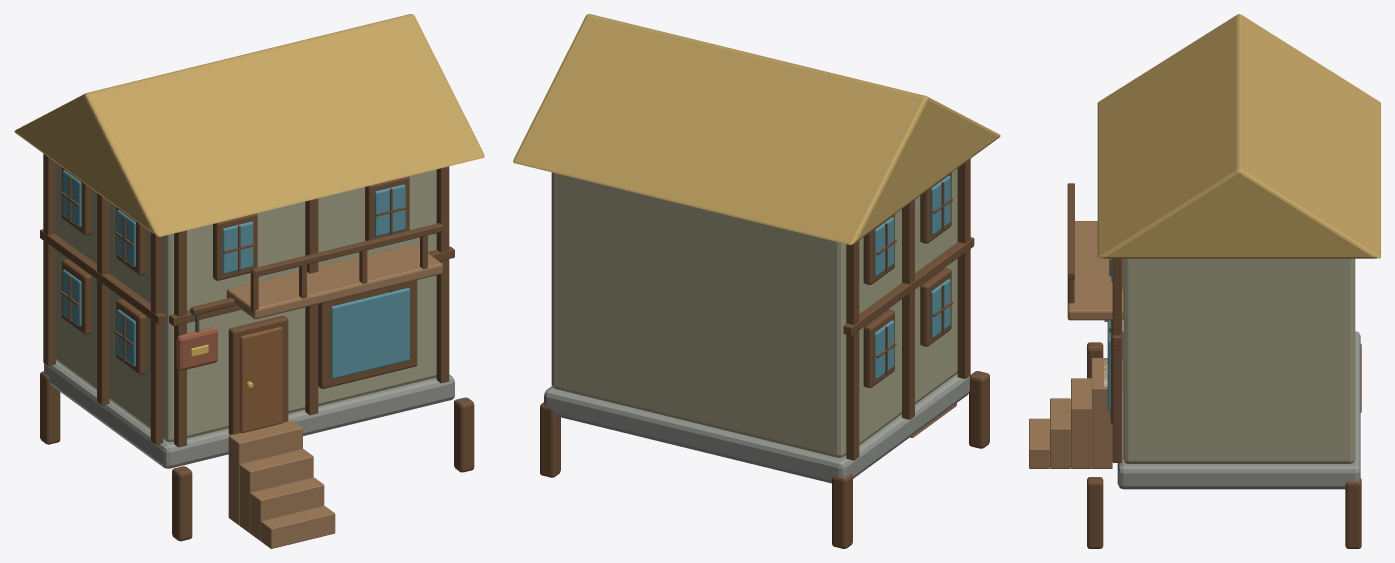
Rendered from wetland-merchant-0.glb.
3 renders of one model, left to right at view 1: azimuth 30°, elevation 25°; view 2: azimuth 150°, elevation 25°; view 3: azimuth 270°, elevation 25°, orthographic. The views are drawn at different scales.
Parts seen in each view (by area): view 1: Golden thatch, Dark beams, Weathered planks, Aged oak, Blue glass, Foundation stone, Door oak, Painted sign; view 2: Weathered planks, Golden thatch, Dark beams, Foundation stone, Blue glass; view 3: Golden thatch, Weathered planks, Aged oak, Foundation stone, Dark beams.
Boxes of the visible parts, x1,y1,x2,y2 form: Golden thatch: (14,14,484,236); Dark beams: (40,154,474,541); Weathered planks: (56,163,436,442); Aged oak: (226,243,442,548); Blue glass: (62,170,409,378); Foundation stone: (44,361,454,468); Door oak: (240,327,282,432); Painted sign: (176,327,217,370); Weathered planks: (551,168,957,457); Golden thatch: (513,14,1000,244); Dark beams: (540,159,989,548); Foundation stone: (544,373,969,483); Blue glass: (874,176,950,379); Golden thatch: (1097,14,1380,258); Weathered planks: (1123,258,1355,463); Aged oak: (1029,221,1123,468); Foundation stone: (1117,331,1360,489); Dark beams: (1067,183,1361,548).
Bounding box in the file's own units: 4.1 × 4.7 × 3.87.
